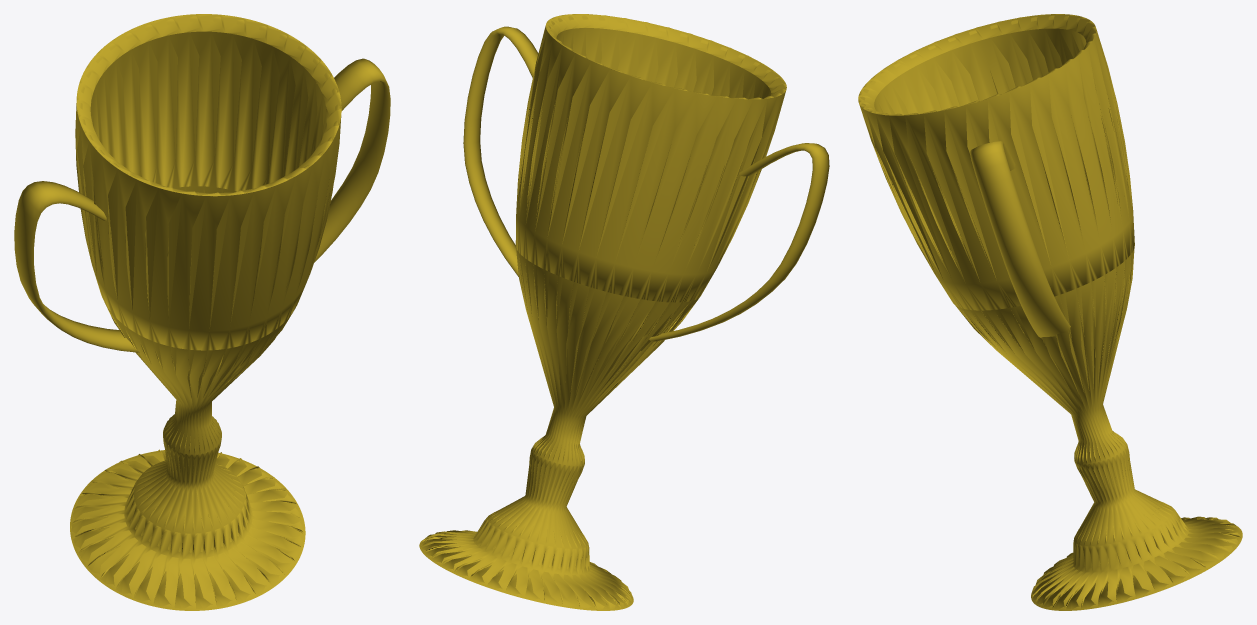
Rendered from the-trophy.obj.
3 renders of one model, left to right at view 1: azimuth 30°, elevation 25°; view 2: azimuth 150°, elevation 25°; view 3: azimuth 270°, elevation 25°, orthographic. The views are drawn at different scales.
Parts seen in each view (by area): view 1: Line01, Line02, Line03; view 2: Line01, Line02, Line03; view 3: Line01, Line02.
Part boxes in pixels (x1,y1,x2,y2): Line01: (70,14,341,610); Line02: (314,58,390,262); Line03: (14,181,139,352); Line01: (419,14,786,610); Line02: (463,26,538,276); Line03: (649,143,829,341); Line01: (858,14,1242,610); Line02: (970,141,1070,337).
Size of the model in its own units: 206 by 310 by 200.
